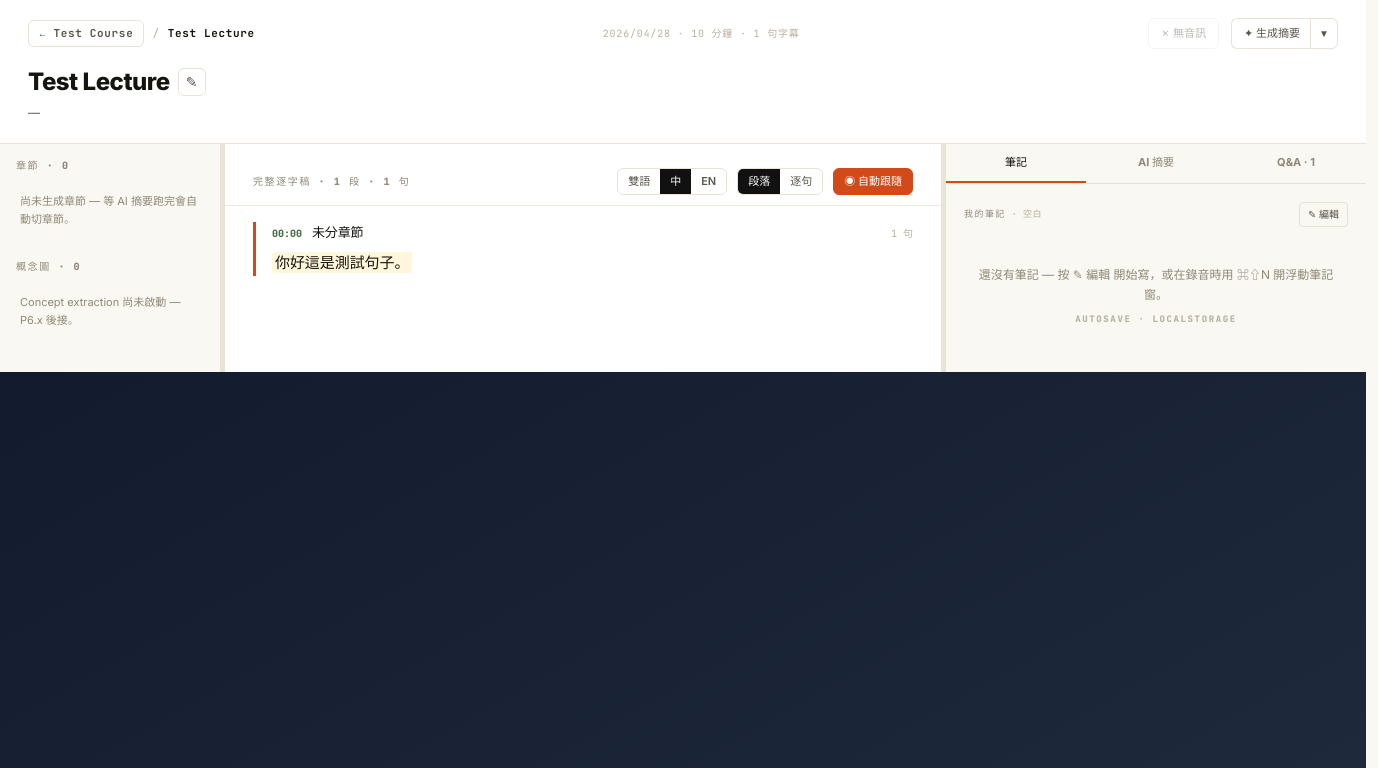
Scenario: H18ReviewPage · cp75.36 markdown rendering in Q&A tab › QA question is rendered as plain text (NOT markdown)
Click the button "Q&A · 1".
click(1296, 163)  # box x1=1226 y1=144 x2=1366 y2=183
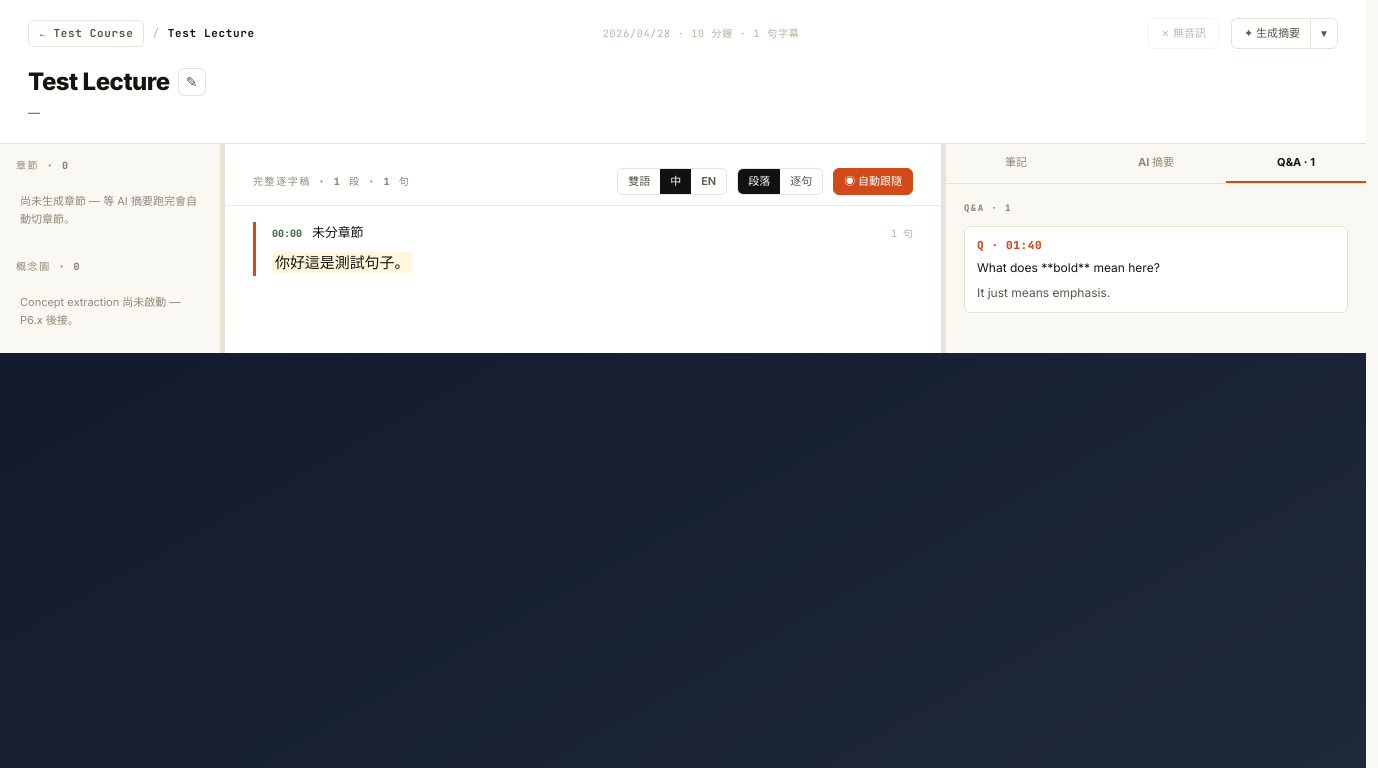
Expected: the text "What does **bold** mean here?" is shown, x1=977 y1=260 x2=1160 y2=275
